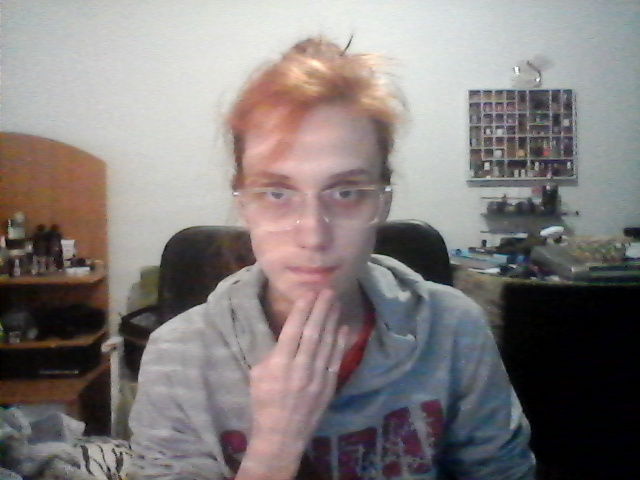dakujem: (242, 290, 367, 423)
